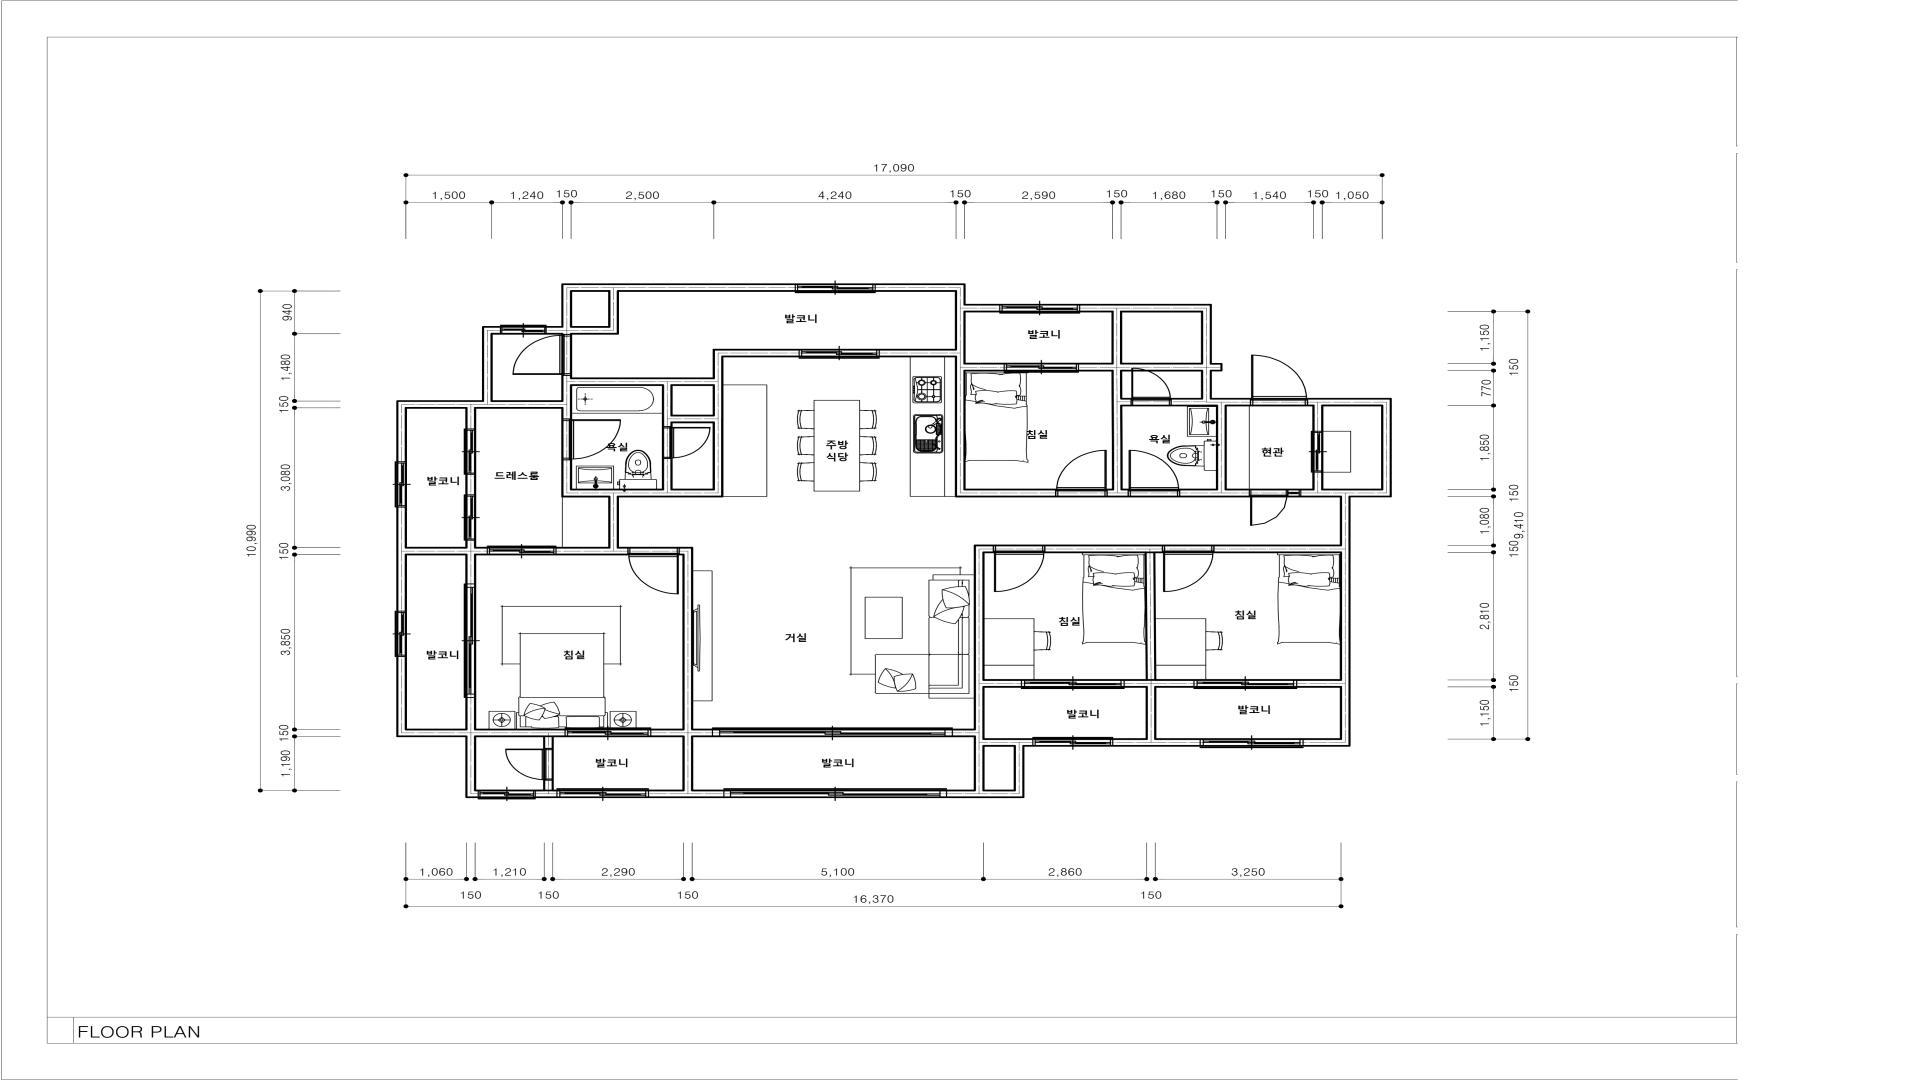door: (1250, 355, 1307, 406), (512, 335, 572, 376), (628, 547, 679, 595), (993, 545, 1044, 592), (1056, 450, 1108, 497), (1129, 450, 1180, 497), (562, 419, 621, 460), (1163, 545, 1213, 592), (662, 427, 711, 459), (505, 749, 554, 779), (1250, 488, 1287, 526), (1131, 372, 1171, 406), (488, 546, 556, 555), (1311, 431, 1324, 472)
wall: (973, 553, 985, 790), (1340, 488, 1350, 738), (683, 555, 694, 790), (1201, 305, 1222, 398), (955, 313, 965, 497), (1112, 313, 1122, 489), (562, 284, 795, 291), (712, 349, 724, 488), (562, 488, 724, 497), (1145, 554, 1156, 679), (572, 377, 713, 386), (1213, 545, 1340, 554), (1079, 303, 1201, 313), (397, 506, 407, 612), (1044, 545, 1163, 554), (396, 657, 407, 737), (1381, 398, 1391, 488), (1216, 406, 1226, 488), (397, 400, 483, 409), (483, 335, 493, 409), (1122, 363, 1201, 372), (965, 489, 1056, 497), (476, 729, 566, 737), (878, 348, 955, 357), (1113, 738, 1201, 746), (1124, 679, 1195, 688), (1180, 488, 1250, 497), (874, 284, 955, 291), (407, 547, 488, 555), (493, 400, 562, 409), (407, 728, 476, 737), (945, 790, 1025, 798), (647, 790, 725, 798), (724, 349, 799, 357), (1307, 398, 1381, 406), (555, 547, 629, 555), (397, 409, 407, 462), (465, 737, 476, 790), (1014, 738, 1025, 790), (608, 497, 618, 547), (1146, 688, 1156, 738), (562, 291, 572, 335), (608, 291, 618, 335), (562, 376, 572, 419), (662, 386, 673, 427), (955, 303, 1000, 313), (1201, 398, 1251, 406), (1350, 488, 1391, 497), (1303, 738, 1350, 746), (965, 363, 1005, 372), (1300, 488, 1340, 497), (1296, 679, 1340, 687), (985, 679, 1022, 688), (465, 698, 476, 729), (572, 326, 608, 335), (662, 459, 673, 489), (673, 415, 712, 423), (465, 555, 476, 584), (562, 460, 572, 489), (1079, 363, 1112, 372), (1312, 406, 1324, 431), (650, 729, 682, 737), (1171, 398, 1201, 406), (985, 738, 1014, 746), (465, 473, 476, 495), (955, 284, 965, 303), (465, 409, 476, 429), (1312, 472, 1324, 489), (952, 729, 975, 737), (1106, 489, 1129, 497), (535, 790, 558, 798), (483, 326, 501, 335), (694, 729, 713, 737), (973, 545, 993, 553), (546, 326, 562, 335), (543, 737, 554, 749), (679, 547, 694, 555), (543, 779, 554, 790), (465, 790, 479, 798), (465, 539, 476, 547), (1122, 398, 1131, 406), (1025, 738, 1034, 746)
window: (713, 728, 952, 737), (724, 789, 945, 798), (464, 584, 476, 698), (1022, 679, 1124, 690), (1195, 679, 1296, 690), (1200, 738, 1303, 748), (556, 789, 647, 798), (1000, 303, 1079, 314), (566, 728, 650, 737), (1005, 363, 1079, 373), (795, 284, 876, 293), (1033, 737, 1113, 746), (799, 349, 878, 359), (394, 612, 407, 657), (394, 462, 407, 506), (463, 429, 476, 473), (464, 495, 476, 539), (479, 790, 535, 799), (501, 324, 546, 335), (1287, 489, 1300, 497)
